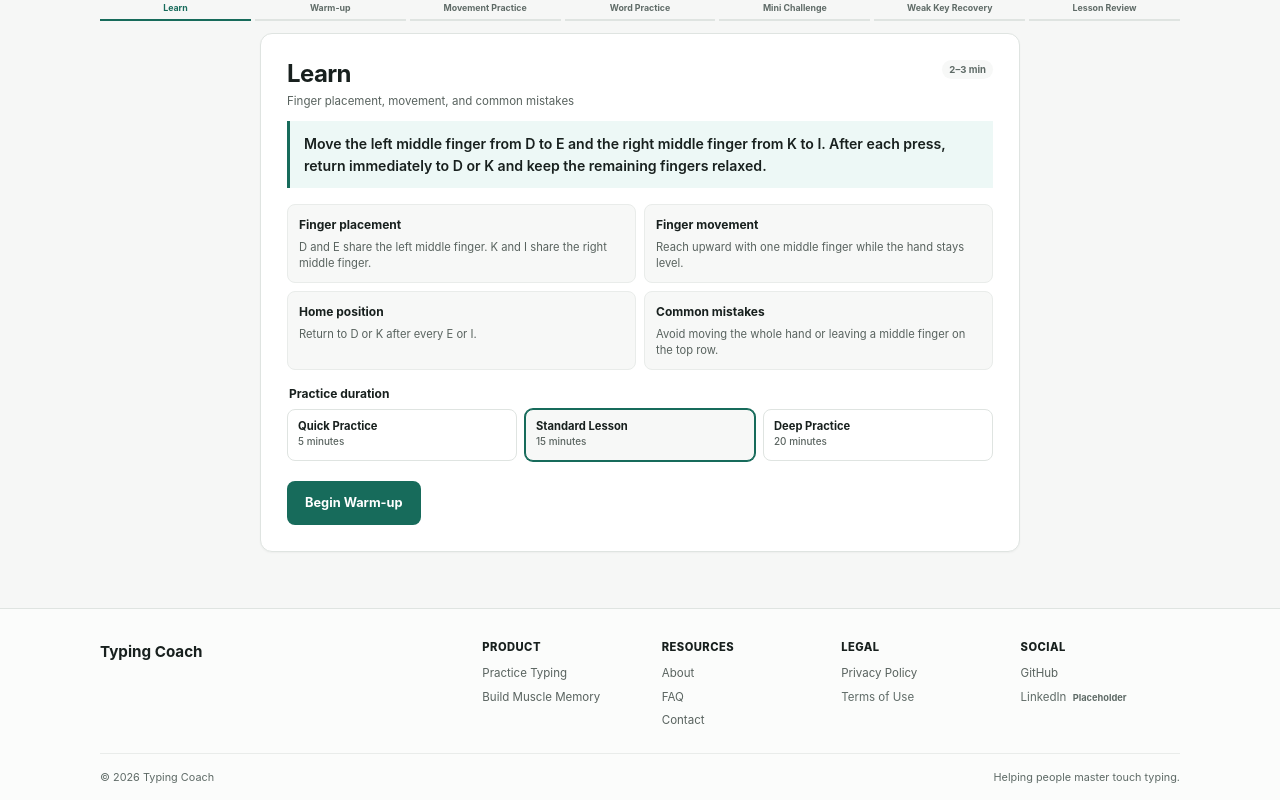
Top Row Introduction — E and I › uses E and I in rotating warm-ups with the existing finger guide
(page scrolled)
Click the button "Begin Warm-up". click: (354, 504)
box: [287,482,421,526]
(page scrolled)
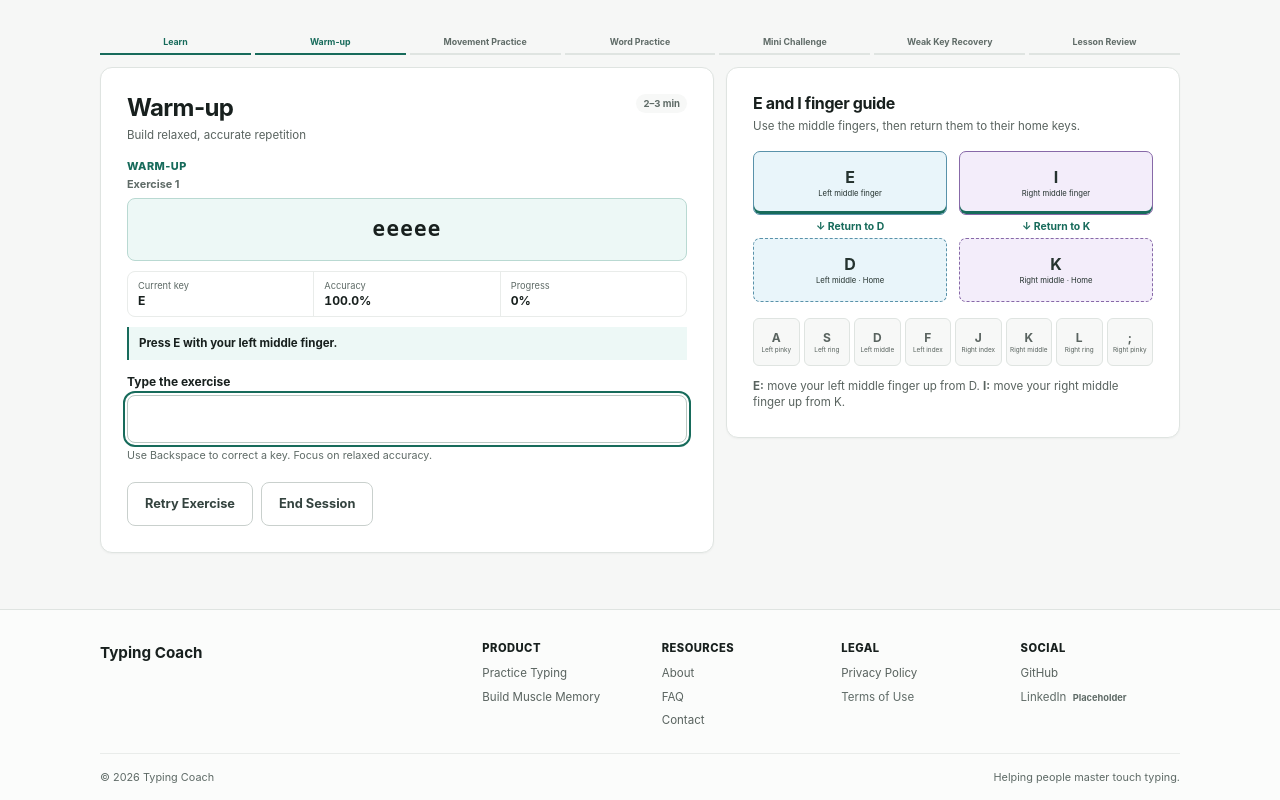
Result: the field labelled "Type the exercise" is shown
Result: the element named "E and I keyboard finger movement" is shown at [753,151,1153,302]
Result: the text "Press E with your left middle finger." is shown at [127,327,687,360]
Type "eeeee" into the field labelled "Type the exercise". click: (407, 418)
box: [127,394,687,442]
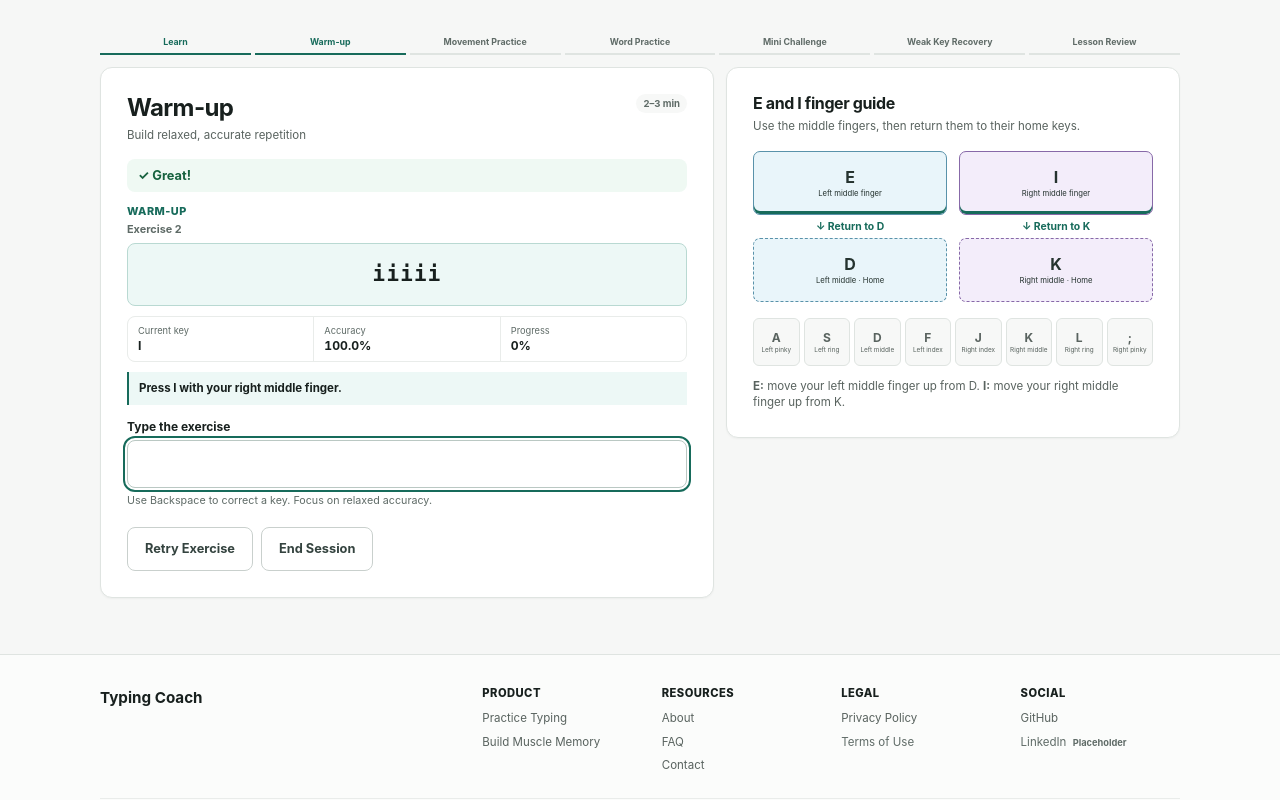
Result: the text "Press I with your right middle finger." is shown at [127,372,687,404]
